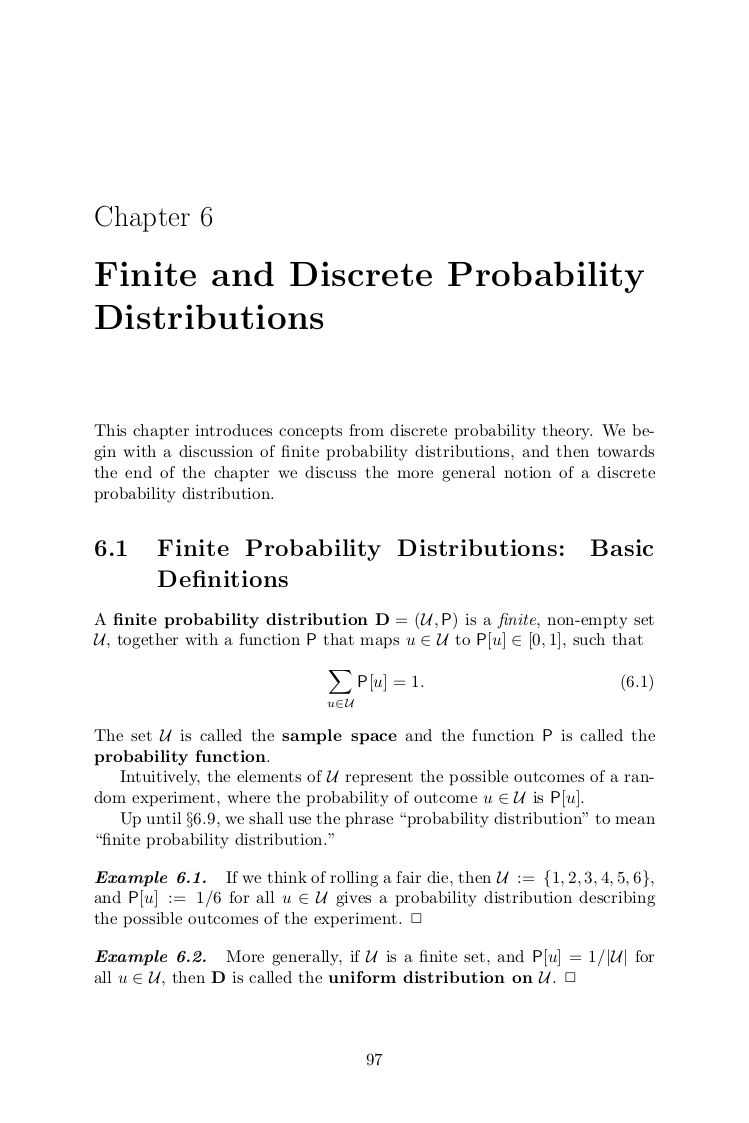formula: (327, 670, 652, 707)
